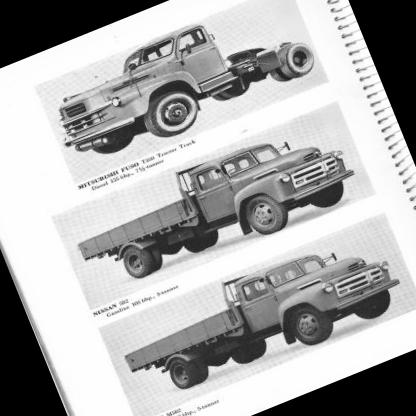truck: (103, 213, 416, 416), (70, 97, 369, 302), (38, 1, 323, 179)
